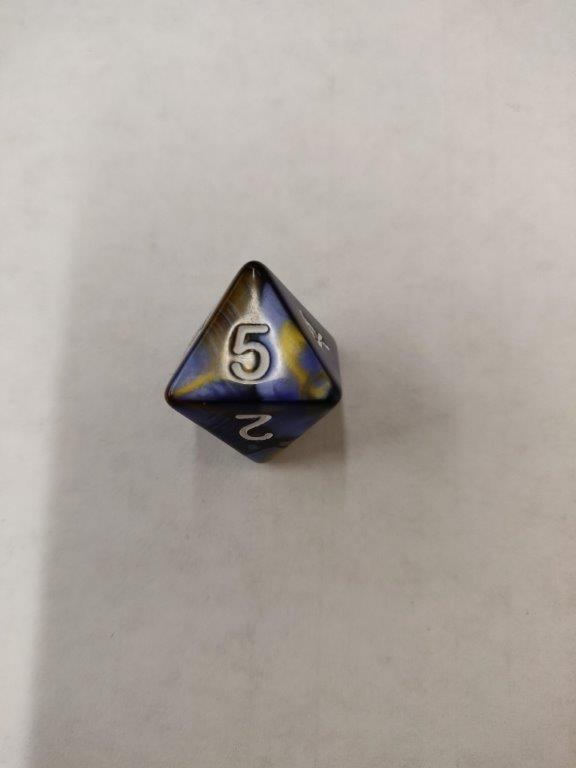d8-5: (161, 257, 344, 464)
